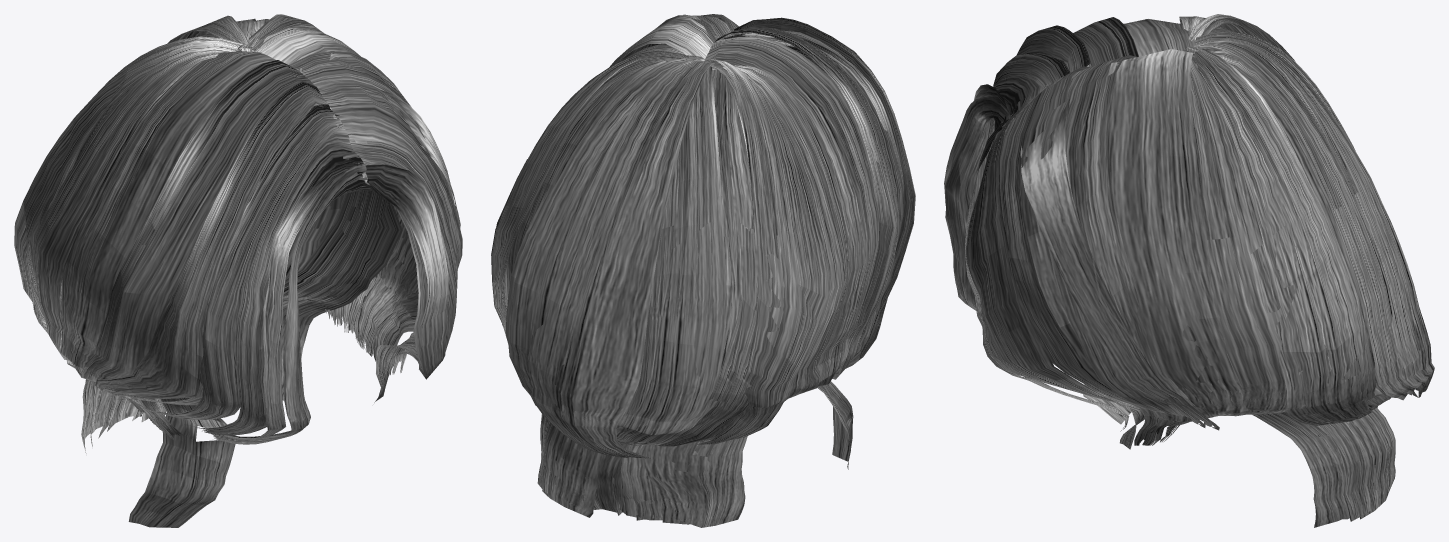
File: daz_hair_air_bangs_long.glb
The picture shows the model from 3 angles, left to right: view 1: azimuth 30°, elevation 25°; view 2: azimuth 150°, elevation 25°; view 3: azimuth 270°, elevation 25°; orthographic projection. The views are drawn at different scales.
Visible parts, largest first — view 1: daz_hair_air_bangs_long; view 2: daz_hair_air_bangs_long; view 3: daz_hair_air_bangs_long.
Part boxes in pixels (x1,y1,x2,y2): daz_hair_air_bangs_long: (14, 14, 462, 527); daz_hair_air_bangs_long: (491, 14, 915, 527); daz_hair_air_bangs_long: (944, 14, 1434, 527).
Size of the model in its own units: 0.2063 by 0.2443 by 0.2443.
1 material, 1 textured.
